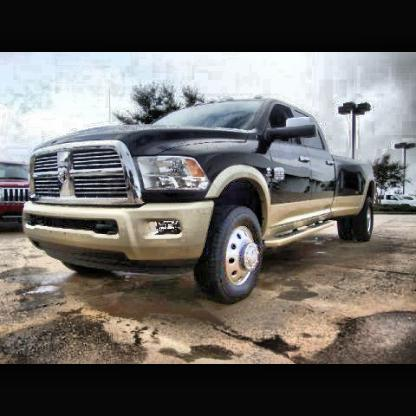Dodge Ram Pickup 3500 Crew Cab 2010: (16, 92, 380, 304)
